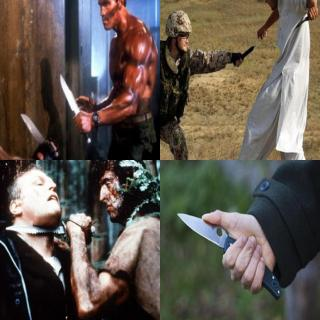knife: (174, 206, 244, 272), (3, 211, 86, 239), (58, 70, 90, 132), (18, 108, 50, 152), (233, 41, 255, 67)
